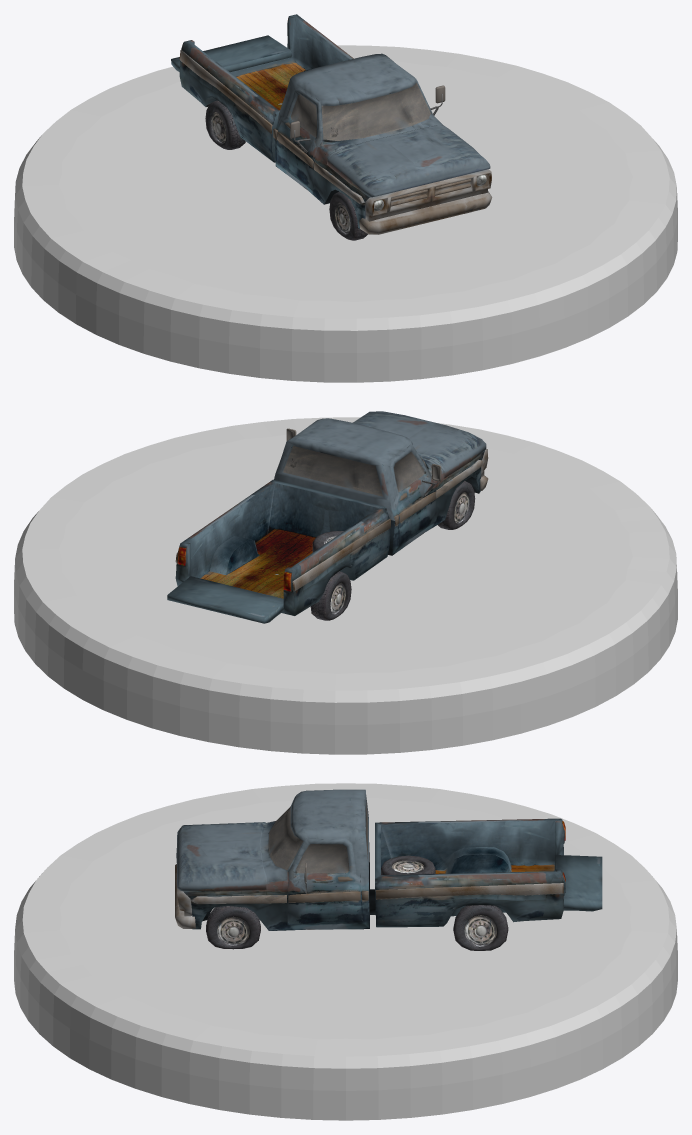
The model's file is camioneta.glb.
3 renders of one model, top to bottom at view 1: azimuth 30°, elevation 25°; view 2: azimuth 150°, elevation 25°; view 3: azimuth 270°, elevation 25°, orthographic.
Visible parts, largest first — view 1: Circle_4, vehicle_Pickup_01_6; view 2: Circle_4, vehicle_Pickup_01_6; view 3: Circle_4, vehicle_Pickup_01_6.
Boxes of the visible parts, x1,y1,x2,y2 form: Circle_4: [14, 45, 677, 382]; vehicle_Pickup_01_6: [171, 14, 492, 240]; Circle_4: [14, 417, 677, 754]; vehicle_Pickup_01_6: [167, 411, 488, 623]; Circle_4: [14, 783, 677, 1120]; vehicle_Pickup_01_6: [175, 789, 602, 950].
Size of the model in its own units: 8.72 by 2.5 by 8.72.
Materials: 2 (1 with a texture image).
